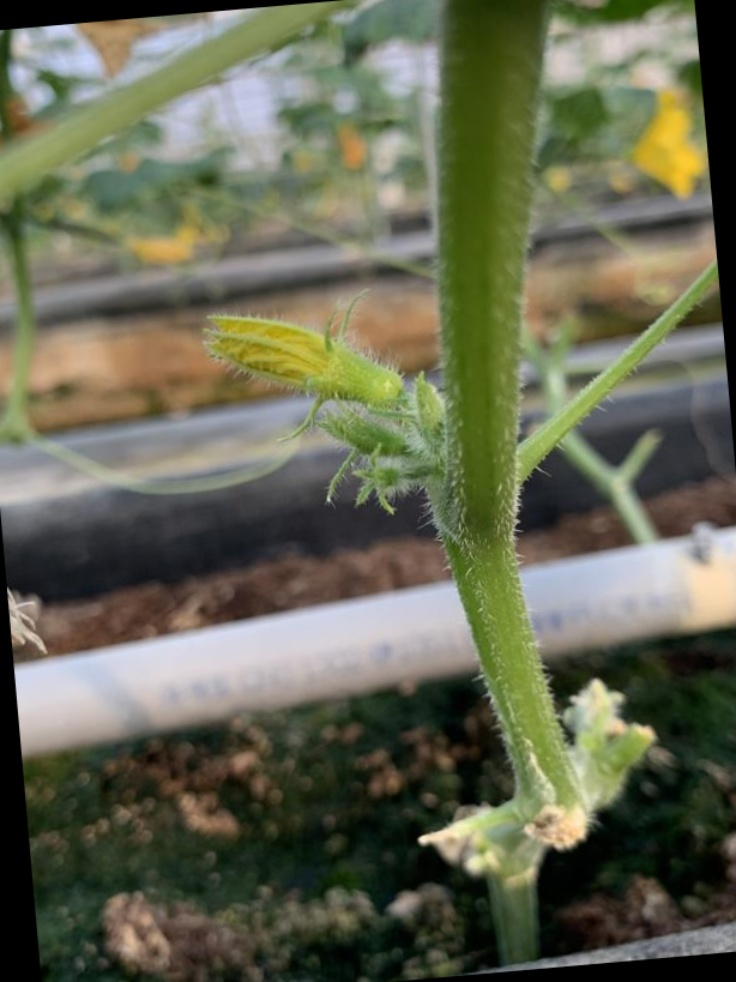bud: (199, 290, 401, 436)
